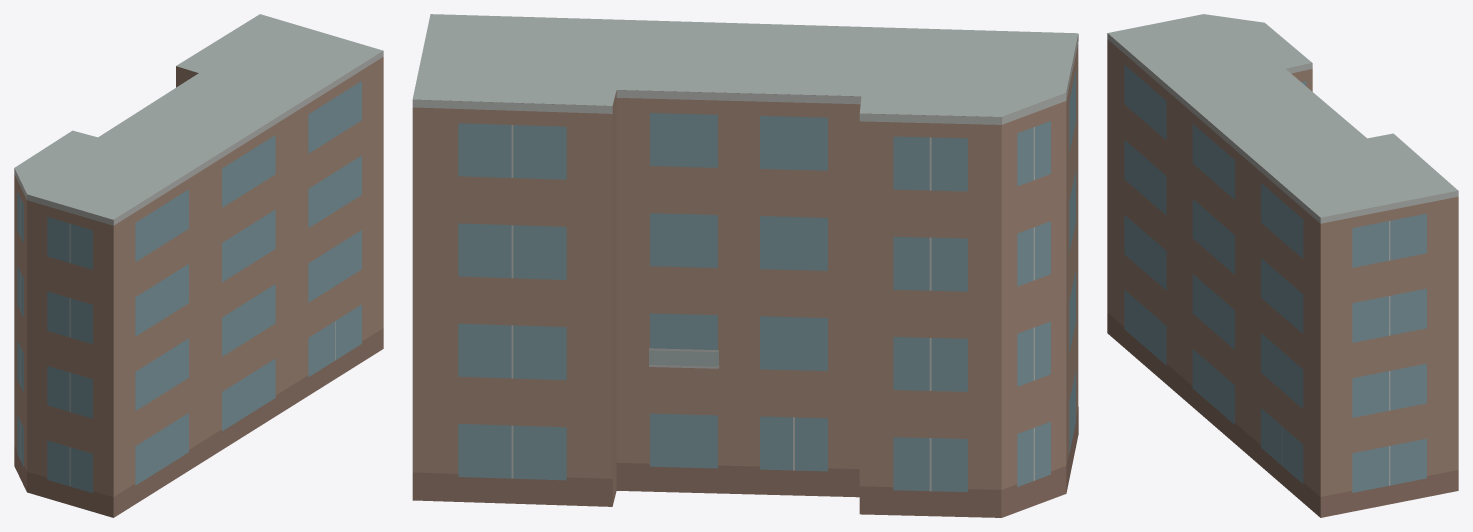
The model's file is survey-upis-32704872.glb.
The picture shows the model from 3 angles, left to right: view 1: azimuth 30°, elevation 25°; view 2: azimuth 150°, elevation 25°; view 3: azimuth 270°, elevation 25°; orthographic projection. The views are drawn at different scales.
Parts seen in each view (by area): view 1: survey-upis-32704872.tmp; view 2: survey-upis-32704872.tmp; view 3: survey-upis-32704872.tmp.
Part boxes in pixels (x1,y1,x2,y2): survey-upis-32704872.tmp: (14, 14, 383, 517); survey-upis-32704872.tmp: (412, 14, 1078, 517); survey-upis-32704872.tmp: (1107, 14, 1458, 517).
Size of the model in its own units: 17.92 by 12.3 by 13.05.
